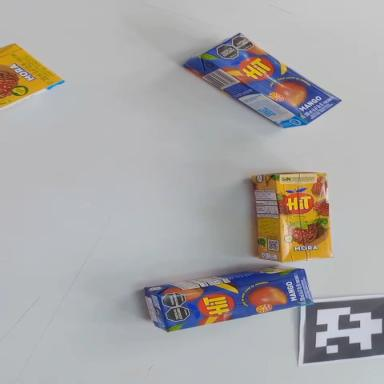HIT-MANGO: (182, 17, 341, 150), (143, 257, 313, 334)
HIT-MORA: (251, 170, 333, 264), (0, 30, 64, 110)
cara_F: (199, 20, 343, 134), (159, 269, 314, 332), (273, 170, 335, 262), (0, 32, 65, 109)
